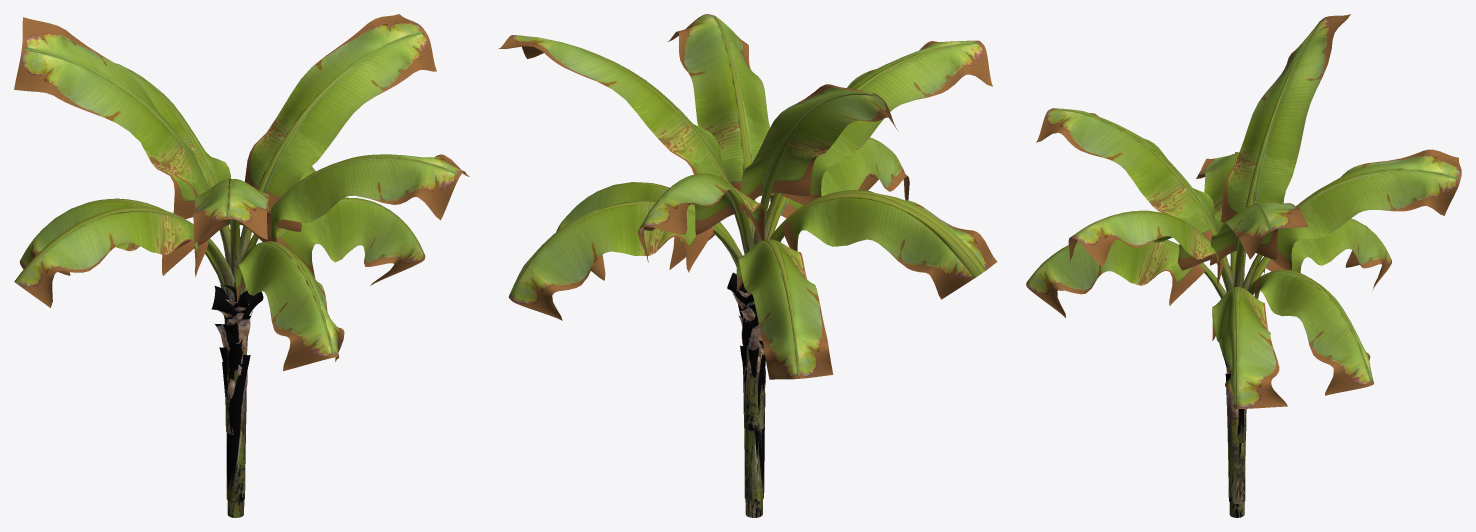
File: banana-tree.glb
3 renders of one model, left to right at view 1: azimuth 30°, elevation 25°; view 2: azimuth 150°, elevation 25°; view 3: azimuth 270°, elevation 25°, orthographic. The views are drawn at different scales.
Parts seen in each view (by area): view 1: Banana_Plant; view 2: Banana_Plant; view 3: Banana_Plant.
Boxes of the visible parts, x1,y1,x2,y2 form: Banana_Plant: [14, 14, 469, 517]; Banana_Plant: [498, 14, 997, 517]; Banana_Plant: [1026, 14, 1461, 517].
Size of the model in its own units: 32.72 by 35.52 by 32.18.
Materials: 3 (3 with a texture image).
